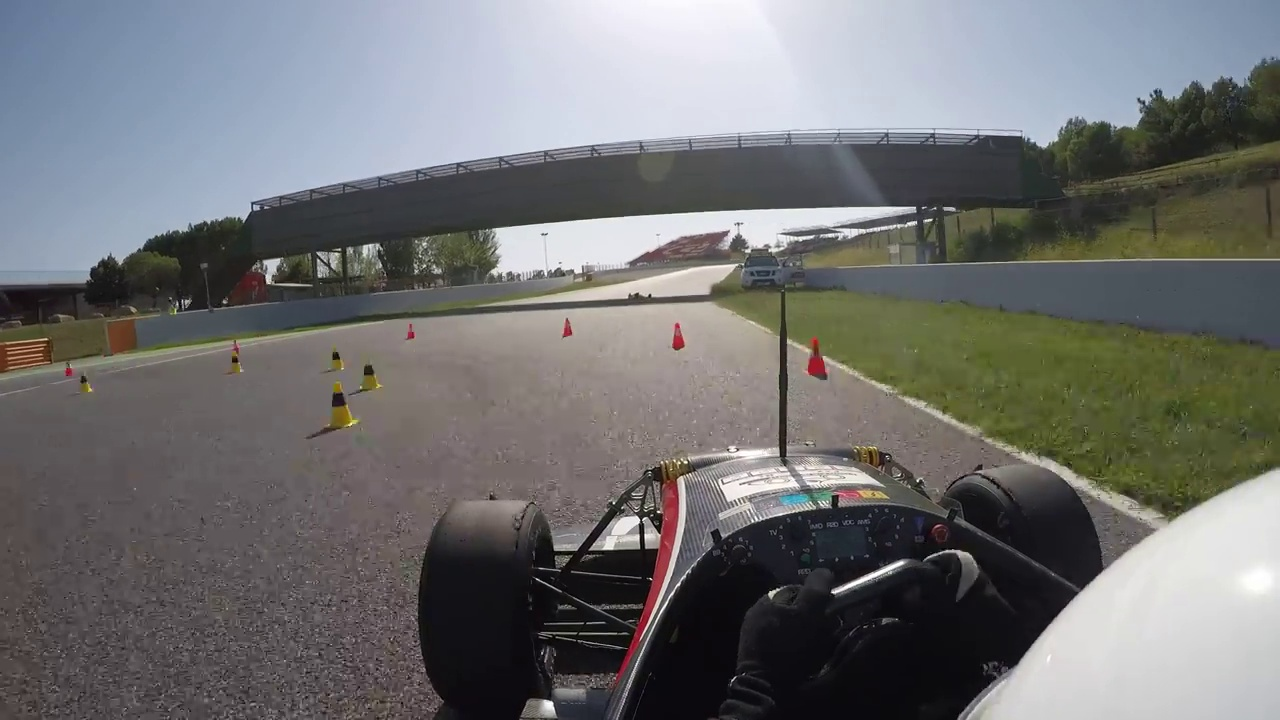Cone: (327, 382, 354, 429), (358, 354, 386, 390), (804, 336, 826, 373), (668, 317, 690, 352)
